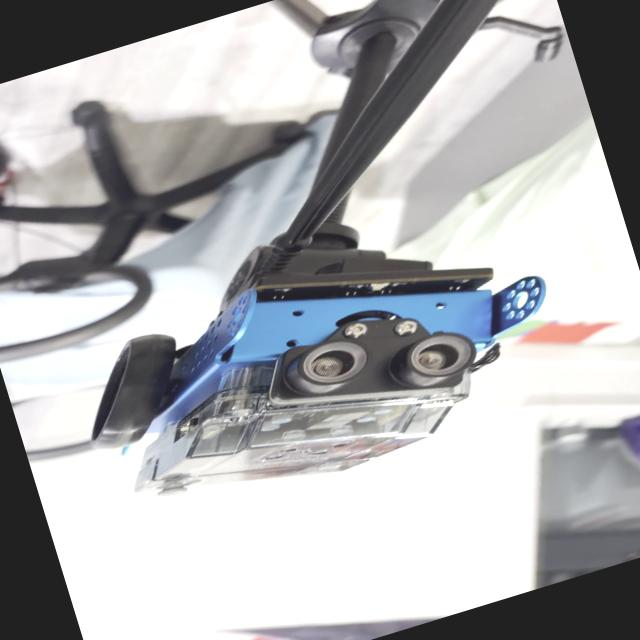mbot-detection: (46, 192, 597, 550)
